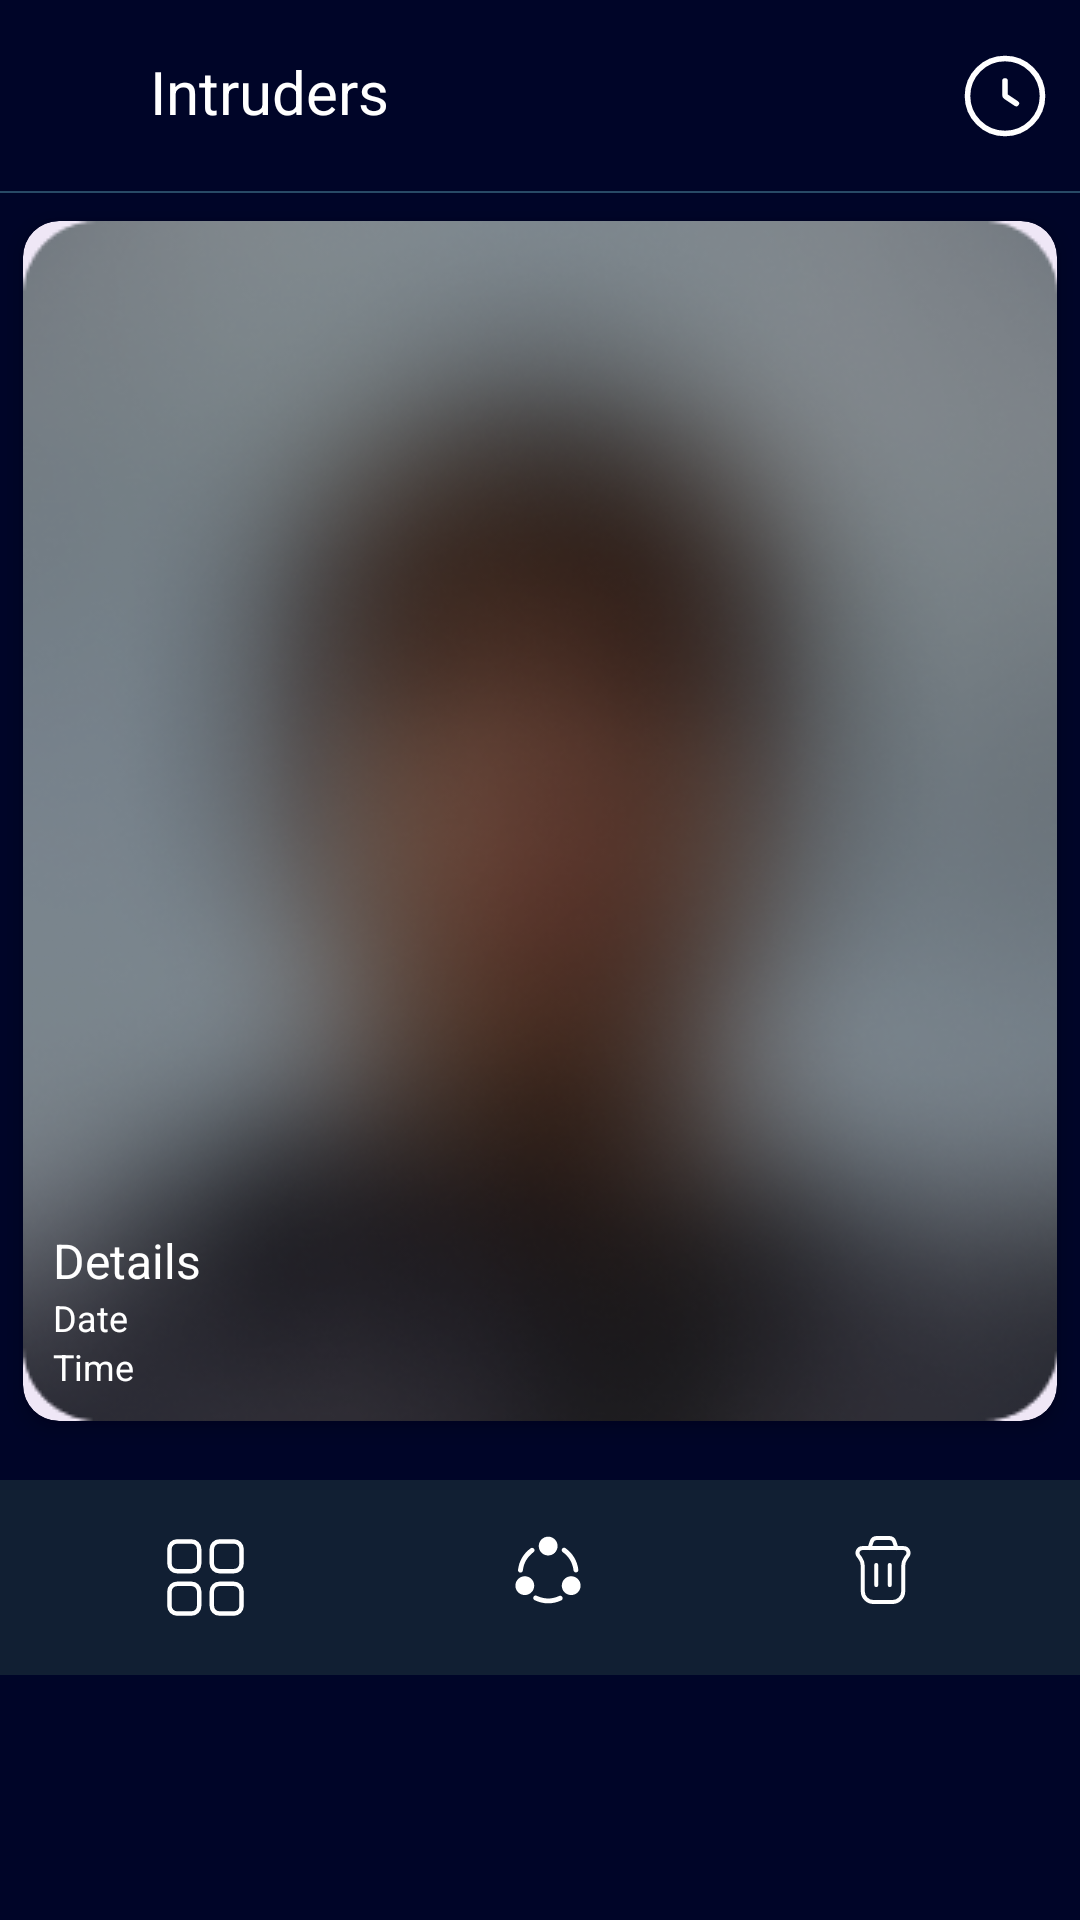

Screen size 1080px x 1920px. Icon name, then its box in pixels as (x1, y1, x2, y2):
deleteicon: (855, 1536, 911, 1604)
gridviewicon: (167, 1539, 244, 1616)
histotyicon: (964, 55, 1046, 137)
shareicon: (515, 1536, 581, 1604)
